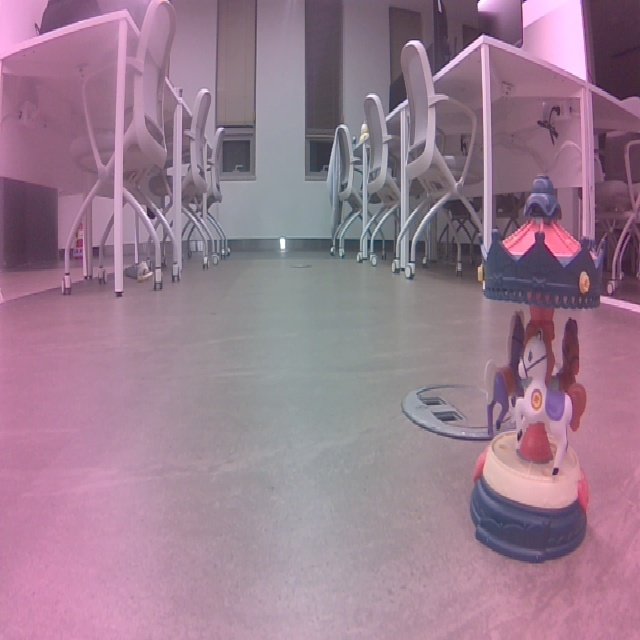목적지: (460, 168, 605, 567)
